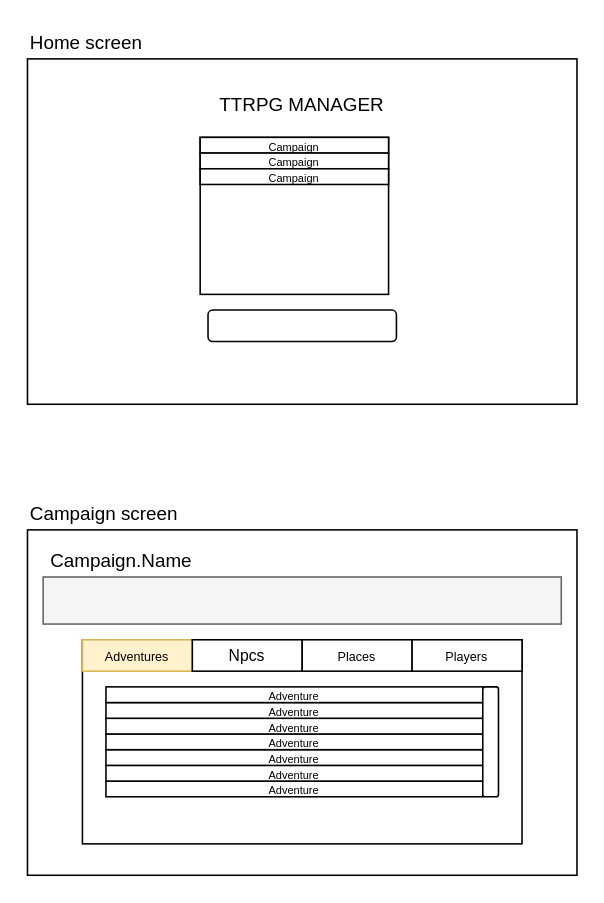
This 604x903 diagram has some shape labels left out. The shapes that lost their labels are listed below. From the top down, each one's centre as x and y in pixels, then its label:
At (x=301, y=325): "Create new campaign".
At (x=301, y=599): "Campaign.Description".
